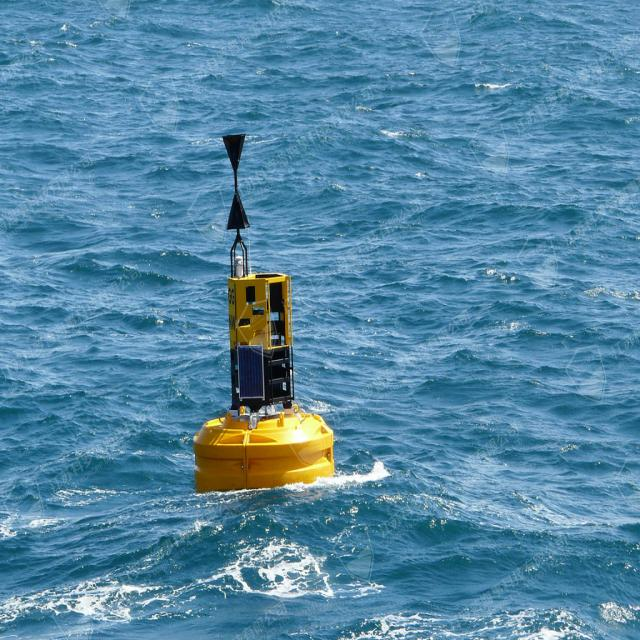buoy: (194, 130, 340, 495)
